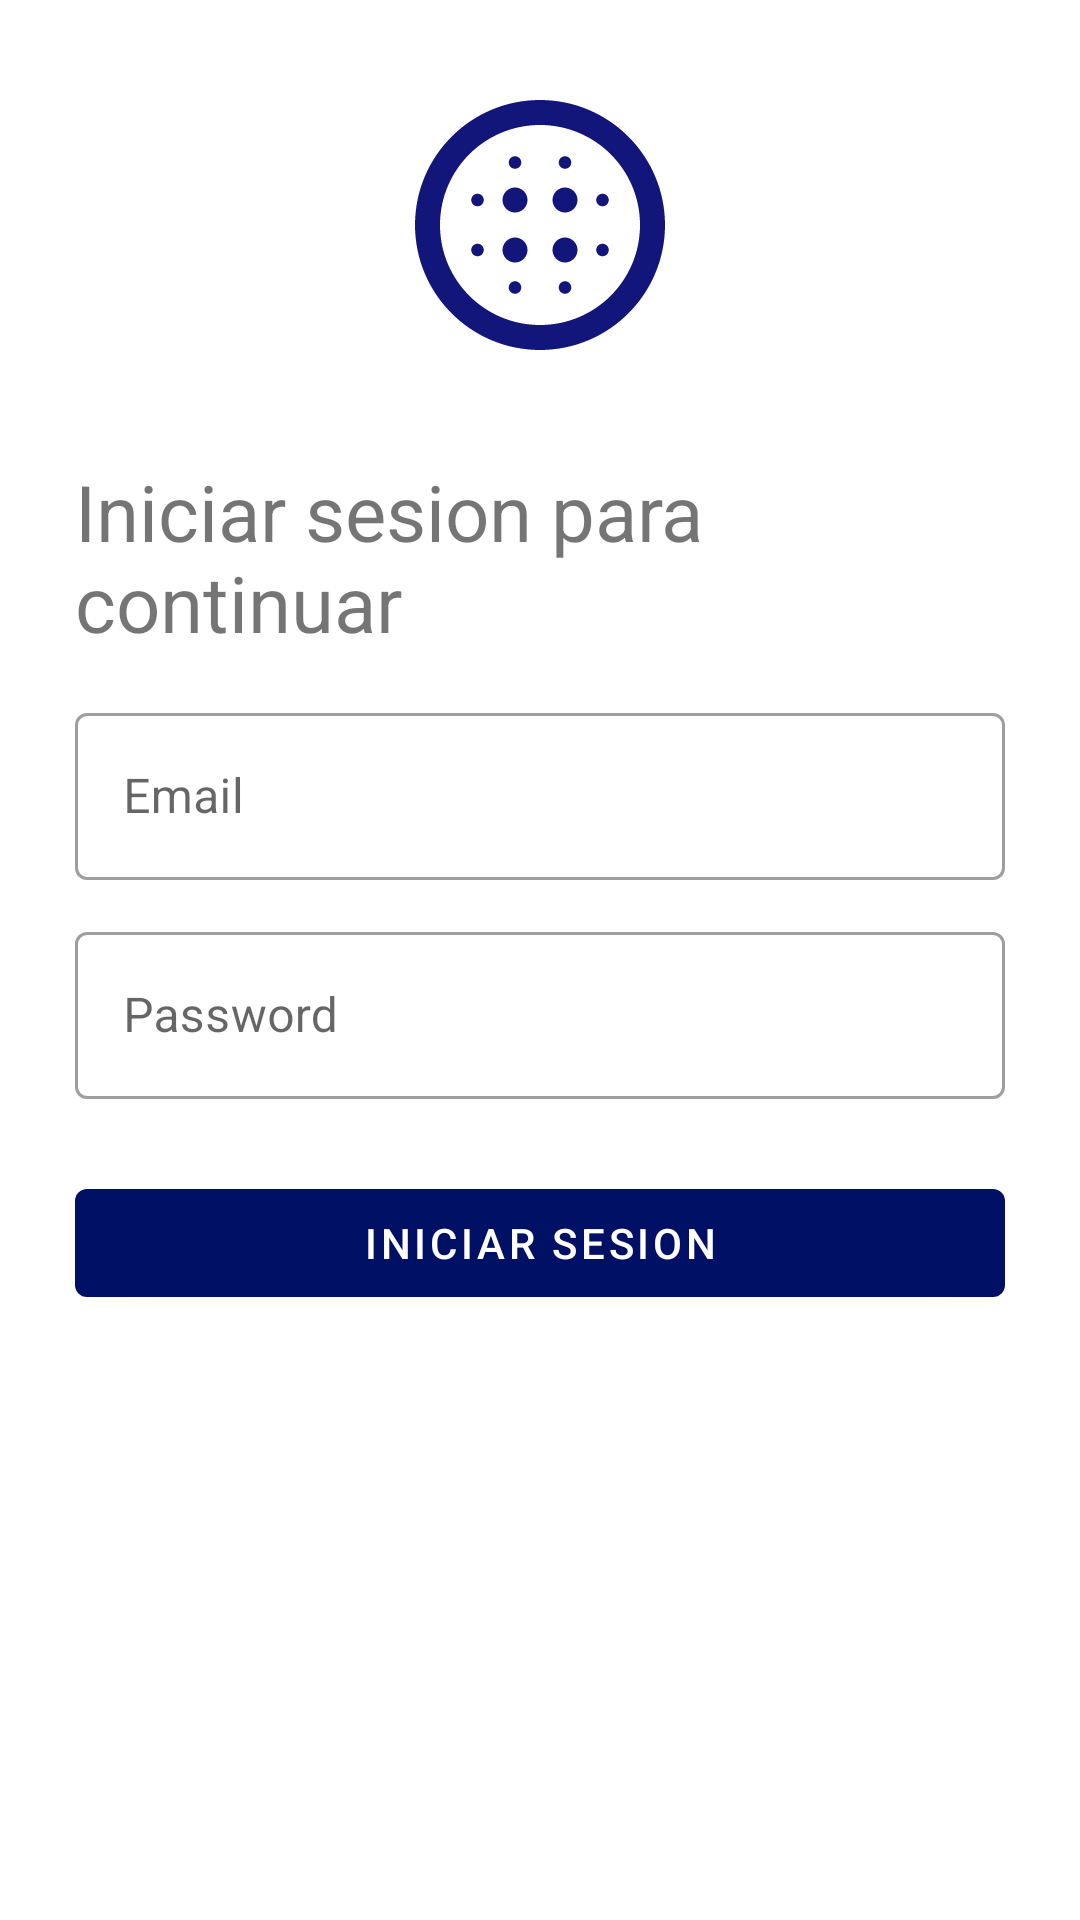

Named icons in this screenshot (1080 × 1920) and their bounding boxes, (x1, y1, x2, y2):
blur: (415, 100, 665, 350)
